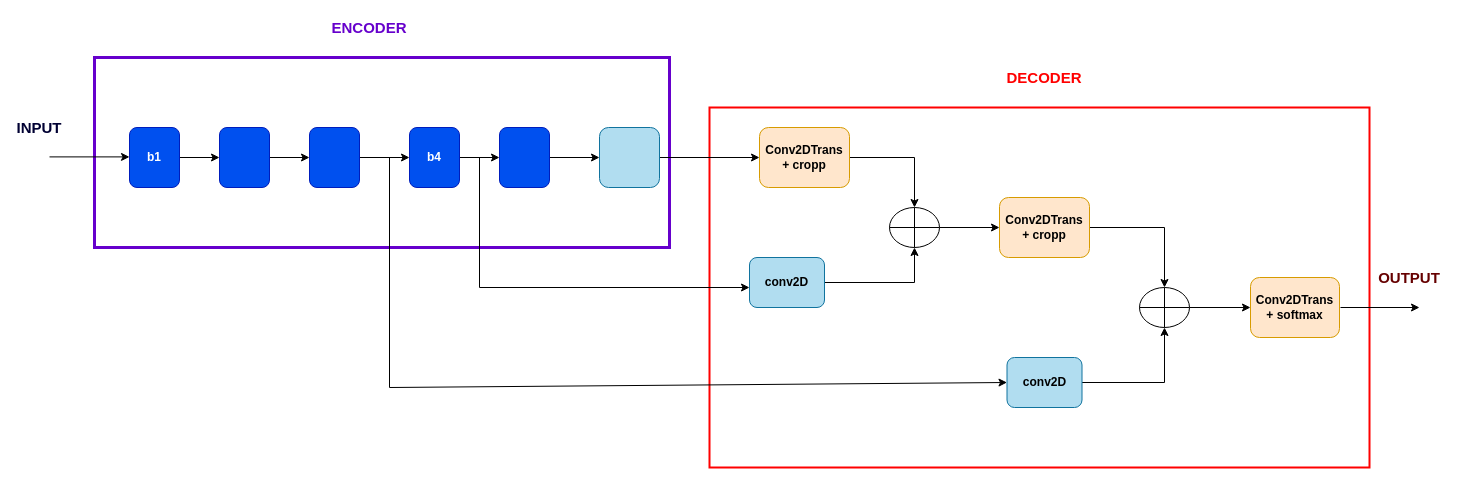
The diagram is 1458 pixels wide and 485 high, and some of its shapes have lost their labels. The box of each missing label's shape, as (x1, y1, x2, y2) in pixels:
b2: (218, 126, 270, 188)
b3: (308, 126, 360, 188)
b5: (498, 126, 550, 188)
conv2D (x 2): (598, 126, 660, 188)
